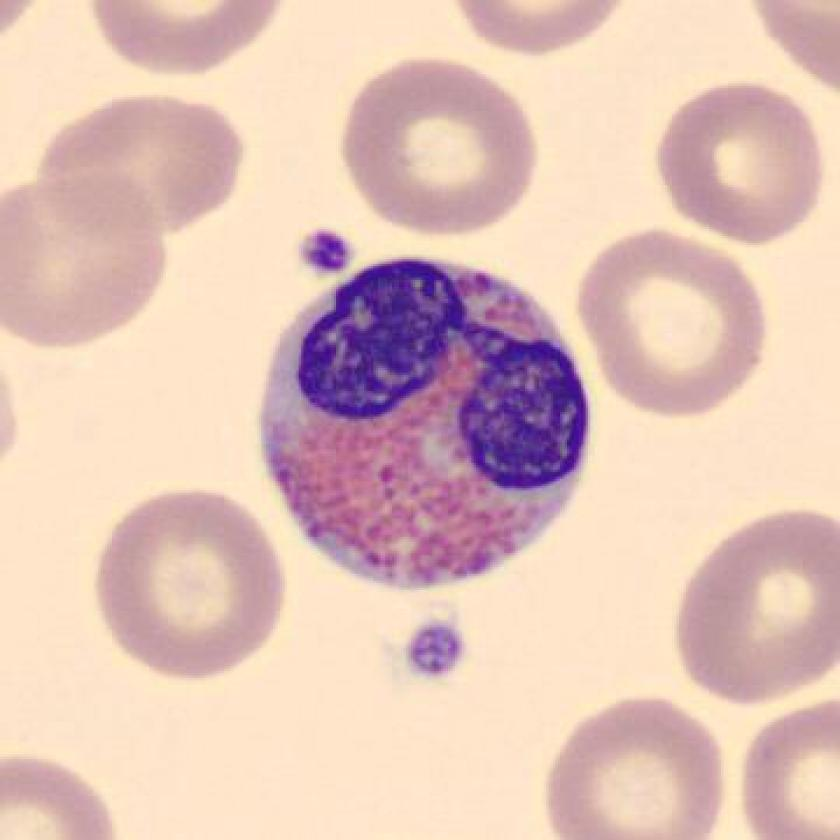eosinophil: (246, 244, 603, 598)
